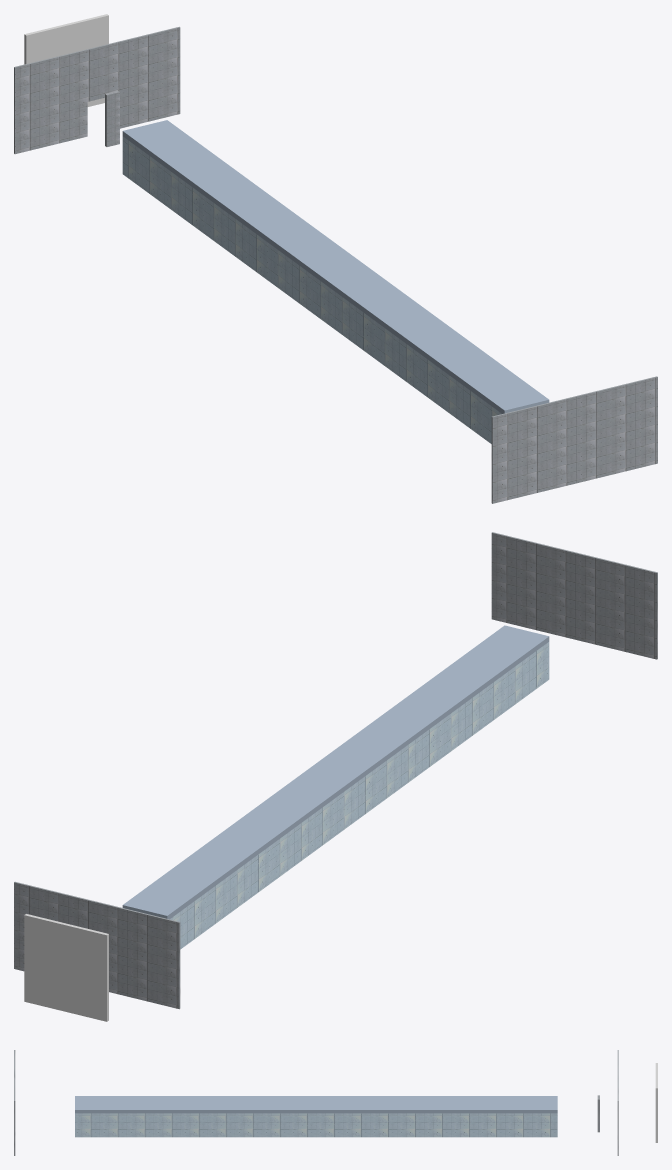
Rendered from introRoom.fbx.
3 views of the same model, one above another, from view 1: azimuth 30°, elevation 25°; view 2: azimuth 150°, elevation 25°; view 3: azimuth 270°, elevation 25° (orthographic). The views are drawn at different scales.
Visible parts, largest first — view 1: ceiling.001, backWall.002, wall, backWall.001, backWhiteWall.001, weirdWall.001; view 2: ceiling.001, backWall.002, wall, backWall.001, backWhiteWall.001; view 3: wall, ceiling.001, backWhiteWall.001, backWall.001, backWall.002.
Part boxes in pixels (<box>): ceiling.001: <box>122,120,549,413</box>; backWall.002: <box>491,376,657,503</box>; wall: <box>122,136,501,443</box>; backWall.001: <box>14,26,180,154</box>; backWhiteWall.001: <box>24,14,108,106</box>; weirdWall.001: <box>105,91,119,146</box>; ceiling.001: <box>122,625,549,919</box>; backWall.002: <box>491,532,657,659</box>; wall: <box>170,642,549,949</box>; backWall.001: <box>14,881,180,1009</box>; backWhiteWall.001: <box>24,914,108,1021</box>; wall: <box>75,1113,557,1137</box>; ceiling.001: <box>75,1096,557,1113</box>; backWhiteWall.001: <box>655,1063,657,1142</box>; backWall.001: <box>617,1050,618,1155</box>; backWall.002: <box>14,1050,15,1155</box>.
Size of the model in its own units: 1000 by 500 by 5335.
4 materials, 2 textured.
